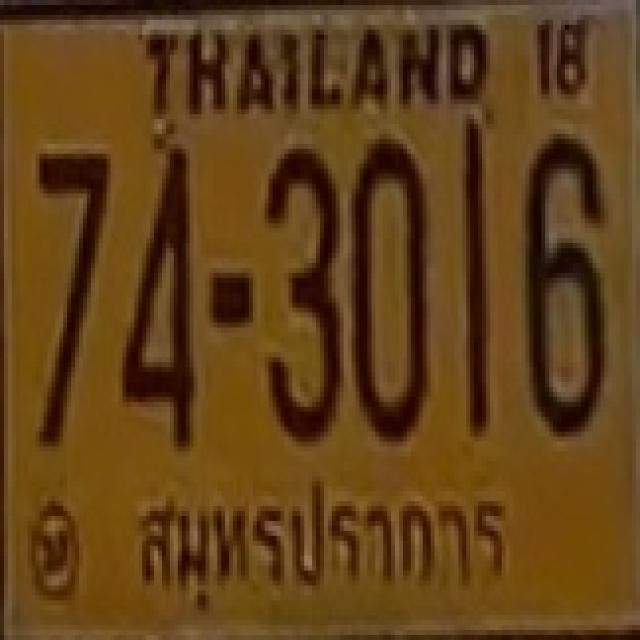0: (348, 138, 431, 442)
1: (459, 117, 490, 437)
3: (260, 146, 346, 444)
4: (116, 144, 197, 446)
6: (522, 134, 600, 432)
7: (36, 149, 106, 447)
SPK: (117, 460, 515, 606)
